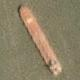ship: (0, 0, 26, 38)
